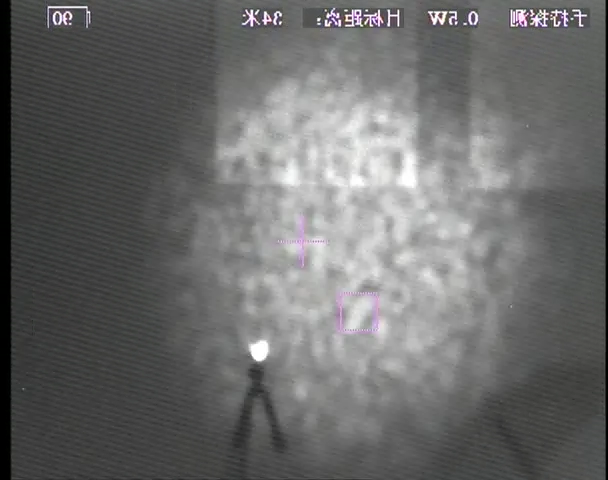my: (248, 337, 271, 364)
